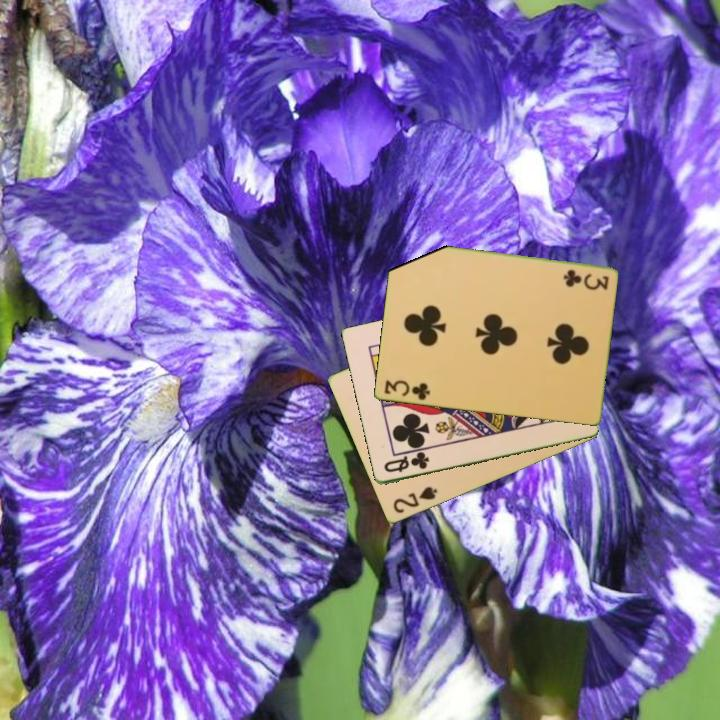2s: (389, 483, 440, 517)
3c: (380, 377, 433, 403), (560, 266, 611, 291)
Qc: (380, 449, 432, 476)
